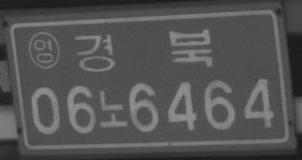0: (30, 85, 61, 136)
4: (166, 80, 198, 131), (243, 77, 274, 128)
6: (203, 79, 236, 131), (129, 81, 159, 133), (66, 85, 96, 135)
경북_D: (73, 27, 214, 73)
노: (98, 89, 128, 129)
영: (27, 30, 60, 70)
